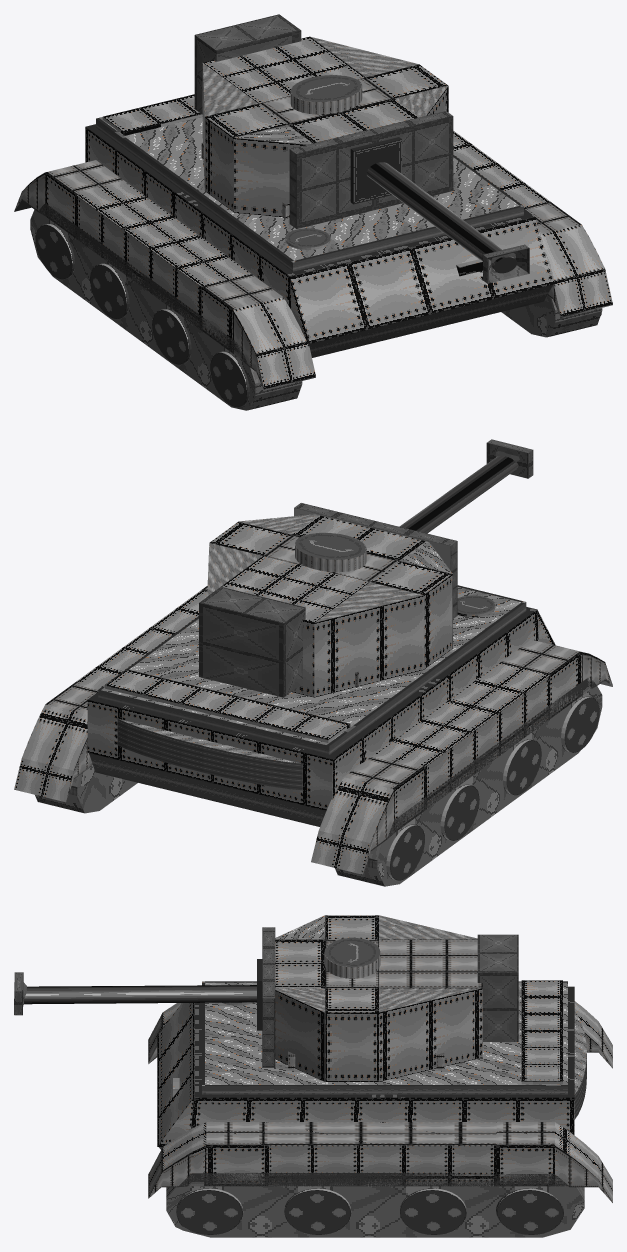
File: Tank_02.fbx
The picture shows the model from 3 angles, top to bottom: view 1: azimuth 30°, elevation 25°; view 2: azimuth 150°, elevation 25°; view 3: azimuth 270°, elevation 25°; orthographic projection. The views are drawn at different scales.
Visible parts, largest first — view 1: Cube.004, Cube, Cube.002, Cube.001; view 2: Cube.004, Cube, Cube.002, Cube.001; view 3: Cube.004, Cube.002, Cube, Cube.001.
Part boxes in pixels (x1,y1,x2,y2): Cube.004: (14, 131, 612, 410); Cube: (85, 94, 554, 357); Cube.002: (194, 14, 453, 228); Cube.001: (366, 162, 529, 283); Cube.004: (14, 586, 612, 886); Cube: (87, 585, 555, 826); Cube.002: (199, 503, 457, 697); Cube.001: (399, 439, 533, 533); Cube.004: (148, 1001, 612, 1237); Cube.002: (257, 915, 518, 1081); Cube: (157, 980, 586, 1149); Cube.001: (14, 972, 256, 1015).
Size of the model in its own units: 104 by 61.45 by 162.
